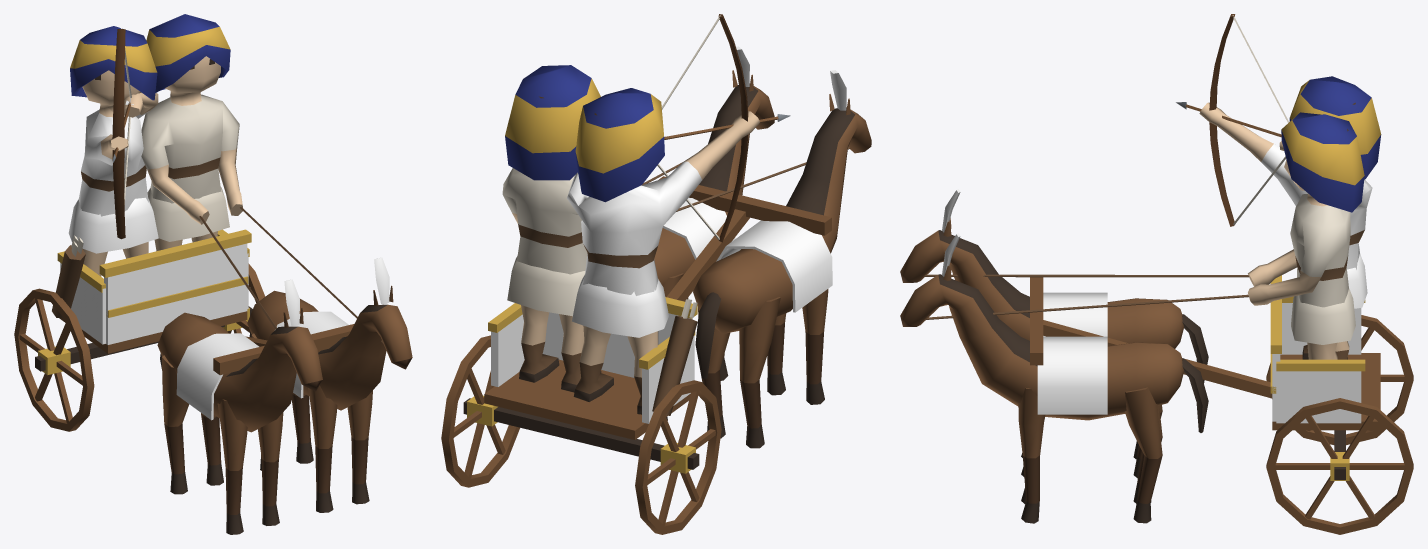
Rendered from char.glb.
The picture shows the model from 3 angles, left to right: view 1: azimuth 30°, elevation 25°; view 2: azimuth 150°, elevation 25°; view 3: azimuth 270°, elevation 25°; orthographic projection. The views are drawn at different scales.
Visible parts, largest first — view 1: char; view 2: char; view 3: char.
Boxes of the visible parts, <box> form: char: <box>14,14,412,534</box>; char: <box>441,14,871,534</box>; char: <box>900,14,1413,534</box>.
Size of the model in its own units: 1.32 by 2.5 by 2.66.
